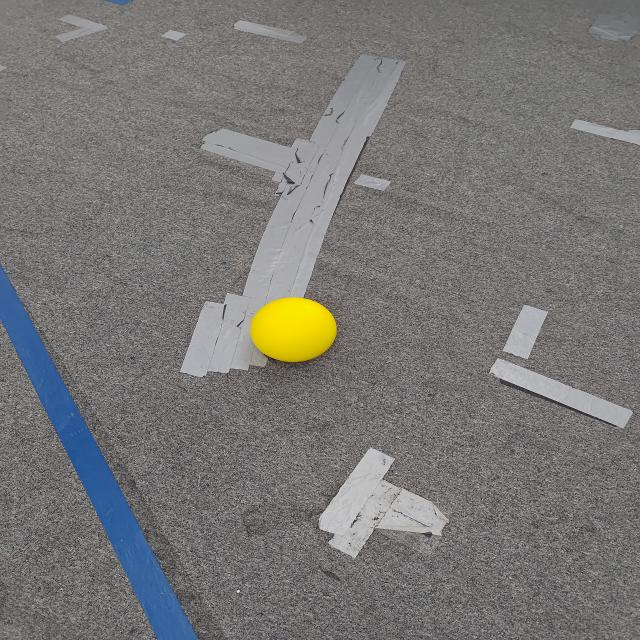Fuel: (251, 297, 338, 362)
